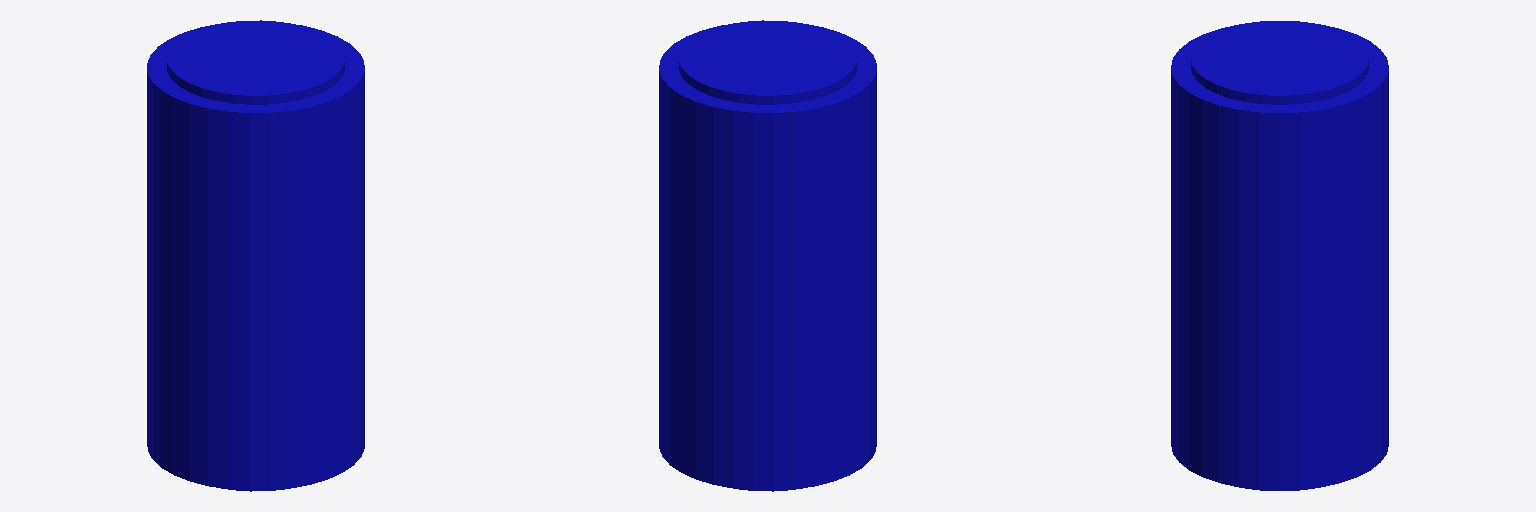
URDF robot description (bottle):
<?xml version="1.0" ?>
<robot name="bottle">
    <link name="base_link">
        <inertial>
            <origin xyz="0 0 0.0" rpy="0 -0 0" />
            <mass value="1" />
            <inertia ixx="0.1" iyy="0.1" izz="0.1" ixy="0" ixz="0" iyz="0" />
        </inertial>
    </link>
    <link name="link0">
        <inertial>
            <origin xyz="0 0 0.14" rpy="0 -0 0" />
            <mass value="4" />
            <inertia ixx="0.4" iyy="0.4" izz="0.4" ixy="0" ixz="0" iyz="0" />
        </inertial>
    </link>
    <link name="link1">
        <inertial>
            <origin xyz="0 0 0" rpy="0 -0 0" />
            <mass value="1" />
            <inertia ixx="0.1" iyy="0.1" izz="0.1" ixy="0" ixz="0" iyz="0" />
        </inertial>
        <visual>
            <origin xyz="0 0 0" rpy="0 -0 0" />
            <!-- <origin xyz="0 0 0" rpy="0 0 0" /> -->
            <geometry>
                <cylinder radius="0.045" length="0.22"/>
                <!-- <mesh filename="Bottle_NoThreads.obj" scale="0.04 0.04 0.04" /> -->
            </geometry>
            <material name="material_bottle">
                <color rgba="0.1 0.1 0.8 1.0" />
            </material>
        </visual>
        <visual>
            <origin xyz="0 0 0" rpy="0 -0 0" />
            <geometry>
                <cylinder radius="0.055" length="0.21"/>
                <!-- <mesh filename="Bottle_NoThreads.obj" scale="0.04 0.04 0.04" /> -->
            </geometry>
             <material name="material_bottle">
                <color rgba="0.1 0.1 0.8 1.0" />
            </material>
        </visual>
        <collision>
            <origin xyz="0 0 0" rpy="0 -0 0" />
            <!-- <origin xyz="0 0 0" rpy="0 0 0" /> -->
            <geometry>
                <cylinder radius="0.055" length="0.22"/>
                <!-- <mesh filename="Bottle_NoThreads.obj" scale="0.04 0.04 0.04" /> -->
            </geometry>
        </collision>
    </link>

    <joint name="j0" type="revolute">
        <parent link="base_link" />
        <child link="link0" />
        <origin xyz="0.000000 0.000000 0.0" rpy="0.000000 0.000000 0.000000" />
        <axis xyz="1 0 0" />
        <!-- <limit lower="-2.967" upper="2.967" effort="176" velocity="1.7104" /> -->
        <limit lower="-2.967" upper="2.967" effort="176" velocity="0" />
    </joint>
    <joint name="j1" type="revolute">
        <parent link="link0" />
        <child link="link1" />
        <origin xyz="0.000000 0.000000 0.0" rpy="0.000000 0.000000 0.000000" />
        <axis xyz="0 1 0" />
        <!-- <limit lower="-2.0944" upper="2.0944" effort="176" velocity="1.7104" /> -->
        <limit lower="-2.0944" upper="2.0944" effort="176" velocity="0" />
    </joint>
</robot>

--- Facts derived from the render (not from the file) ---
The picture shows the robot from 3 angles, left to right: view 1: azimuth 30°, elevation 25°; view 2: azimuth 150°, elevation 25°; view 3: azimuth 270°, elevation 25°; orthographic projection.
Model bottle with 3 links and 2 joints (2 revolute), rooted at base_link, posed all joints at 0.
Links seen in each view (by area): view 1: link1; view 2: link1; view 3: link1.
Link boxes in pixels (left/top/right/bottom): link1: left=147, top=20, right=364, bottom=491; link1: left=659, top=20, right=876, bottom=491; link1: left=1171, top=21, right=1388, bottom=490.
Size in the robot's own frame: 0.11 by 0.11 by 0.22 metres.
Geometry: primitives only (box / cylinder / sphere), no mesh files.